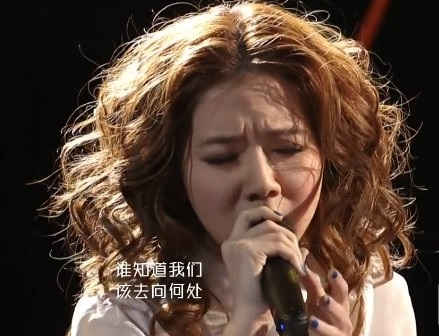face: (186, 84, 323, 257)
